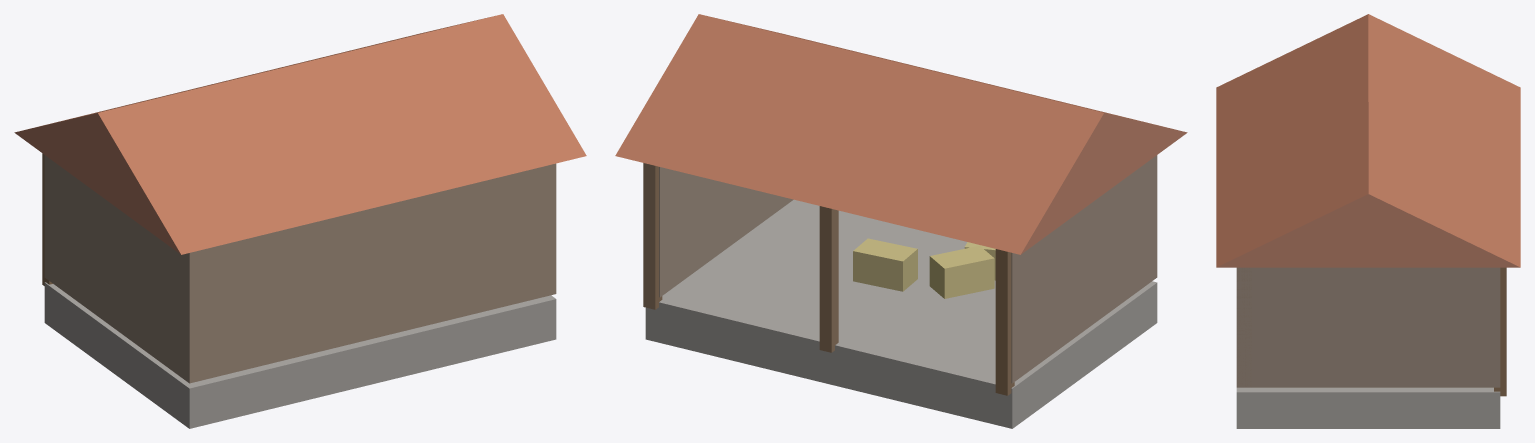
The model's file is stable.glb.
3 renders of one model, left to right at view 1: azimuth 30°, elevation 25°; view 2: azimuth 150°, elevation 25°; view 3: azimuth 270°, elevation 25°, orthographic. The views are drawn at different scales.
Parts seen in each view (by area): view 1: stable2; view 2: stable2; view 3: stable2.
Boxes of the visible parts, bbox=[...] form: stable2: bbox=[14, 14, 586, 428]; stable2: bbox=[615, 14, 1187, 428]; stable2: bbox=[1216, 14, 1520, 428].
Size of the model in its own units: 8.4 by 5.3 by 6.
